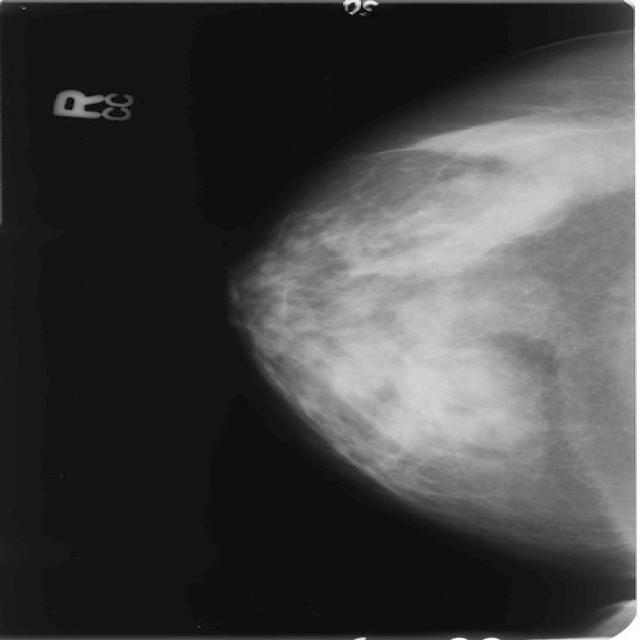tumour: (408, 120, 578, 158)
